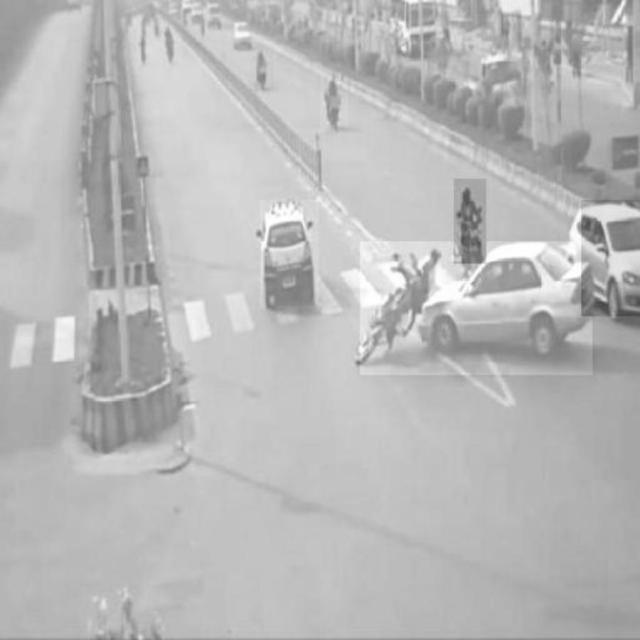accident: (360, 241, 593, 375)
vehicle: (581, 200, 640, 316), (260, 201, 318, 309), (454, 179, 486, 263), (320, 71, 347, 131), (250, 44, 274, 91)
